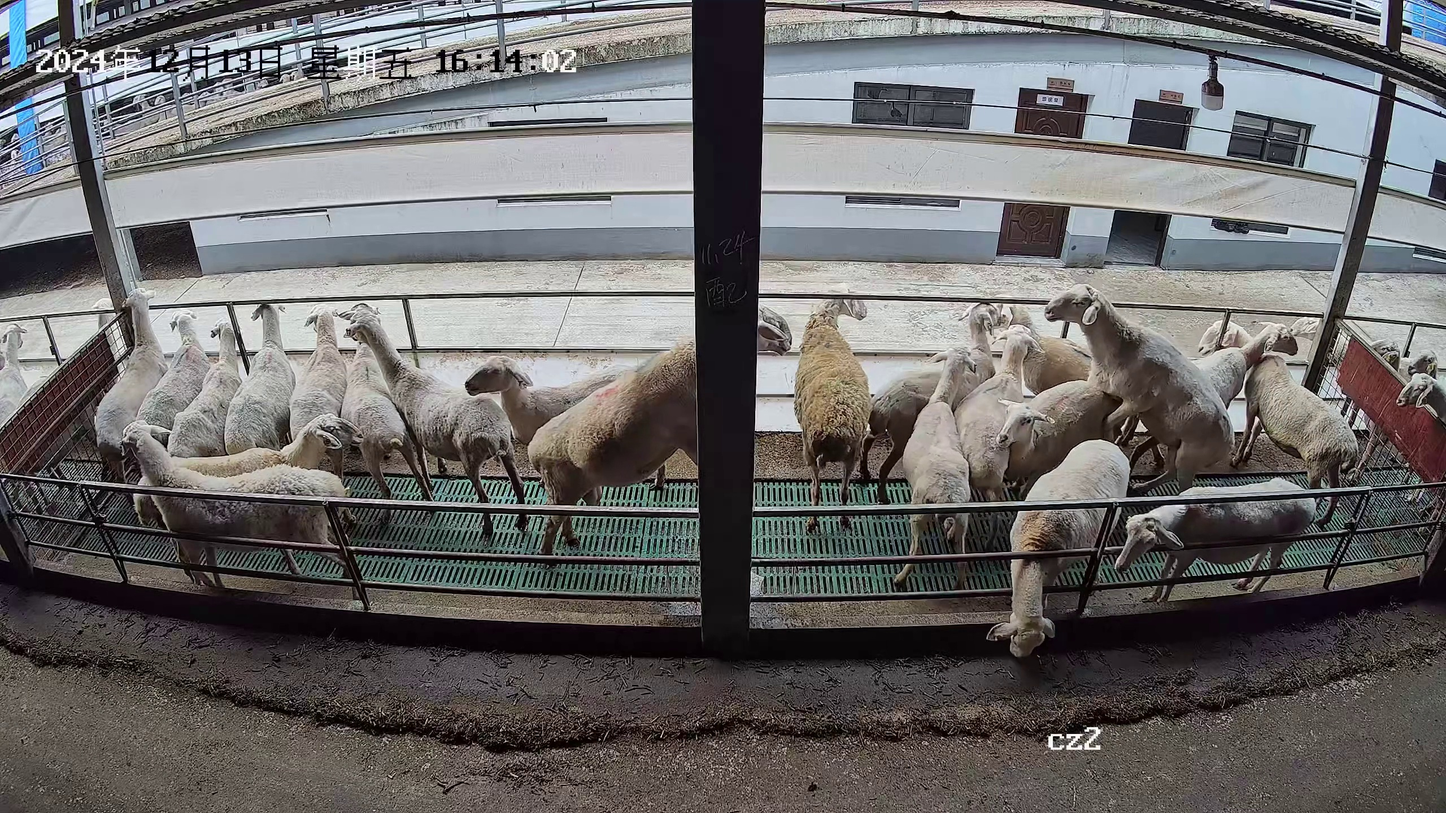Smounting: (988, 282, 1236, 503)
mounted: (993, 375, 1130, 500)
